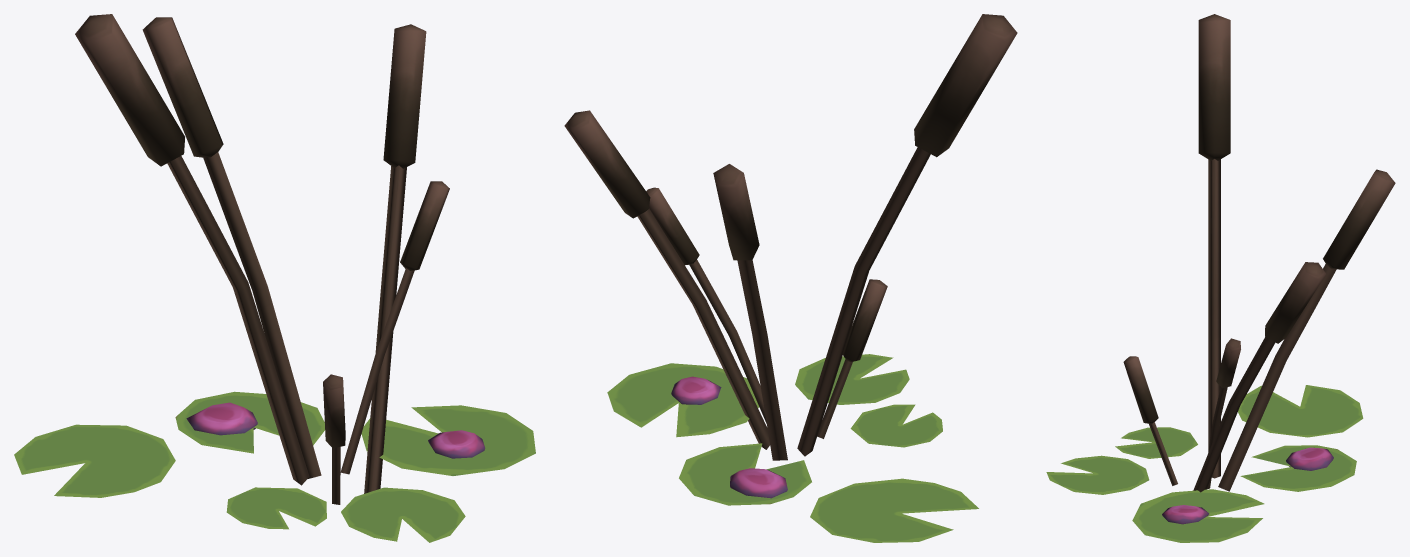
Rendered from Tegra_Town001_Grass02.FBX.
3 views of the same model, side by side, from view 1: azimuth 30°, elevation 25°; view 2: azimuth 150°, elevation 25°; view 3: azimuth 270°, elevation 25° (orthographic). The views are drawn at different scales.
Visible parts, largest first — view 1: Tegra_Town001_Grass02; view 2: Tegra_Town001_Grass02; view 3: Tegra_Town001_Grass02.
Boxes of the visible parts, x1=… form: Tegra_Town001_Grass02: x1=14, y1=14, x2=535, y2=542; Tegra_Town001_Grass02: x1=564, y1=14, x2=1017, y2=542; Tegra_Town001_Grass02: x1=1046, y1=14, x2=1395, y2=542.
Size of the model in its own units: 90.02 by 107 by 83.85.
1 material, 1 textured.
